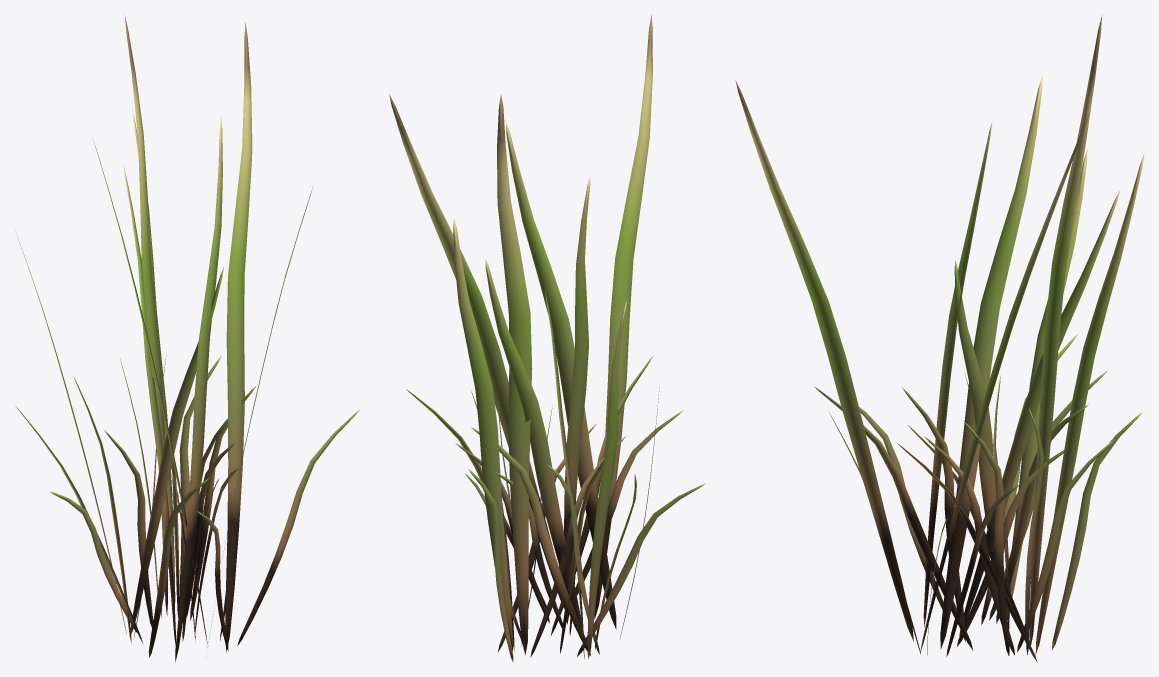
File: tatarak-1.obj
3 views of the same model, side by side, from view 1: azimuth 30°, elevation 25°; view 2: azimuth 150°, elevation 25°; view 3: azimuth 270°, elevation 25° (orthographic). The views are drawn at different scales.
Parts seen in each view (by area): view 1: tatarak1; view 2: tatarak1; view 3: tatarak1.
Part boxes in pixels (x1,y1,x2,y2): tatarak1: [16, 14, 360, 662]; tatarak1: [389, 14, 705, 662]; tatarak1: [735, 14, 1144, 662].
Size of the model in its own units: 0.4708 by 0.8597 by 0.5048.
1 material, 1 textured.
